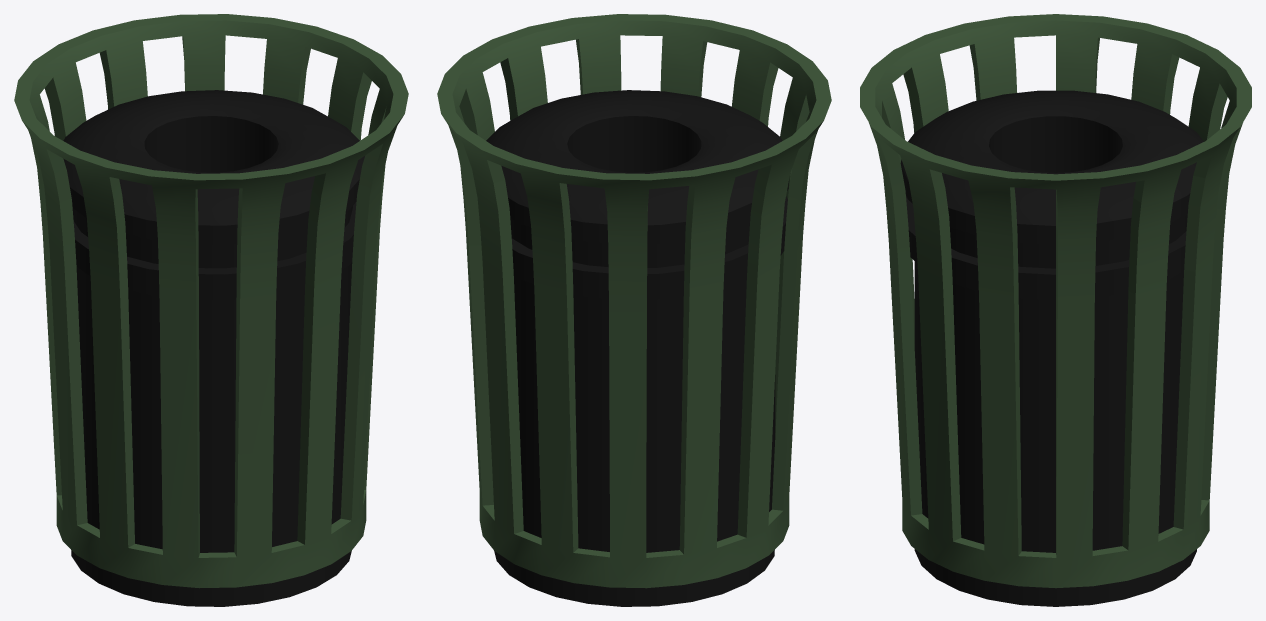
Rendered from trashCan.0001.fbx.
3 renders of one model, left to right at view 1: azimuth 30°, elevation 25°; view 2: azimuth 150°, elevation 25°; view 3: azimuth 270°, elevation 25°, orthographic.
Parts seen in each view (by area): view 1: trash_GEO; view 2: trash_GEO; view 3: trash_GEO.
Boxes of the visible parts, x1,y1,x2,y2 form: trash_GEO: [14, 14, 408, 606]; trash_GEO: [437, 14, 831, 606]; trash_GEO: [860, 14, 1251, 606].
Bounding box in the file's own units: 0.3595 × 0.4523 × 0.3569.
